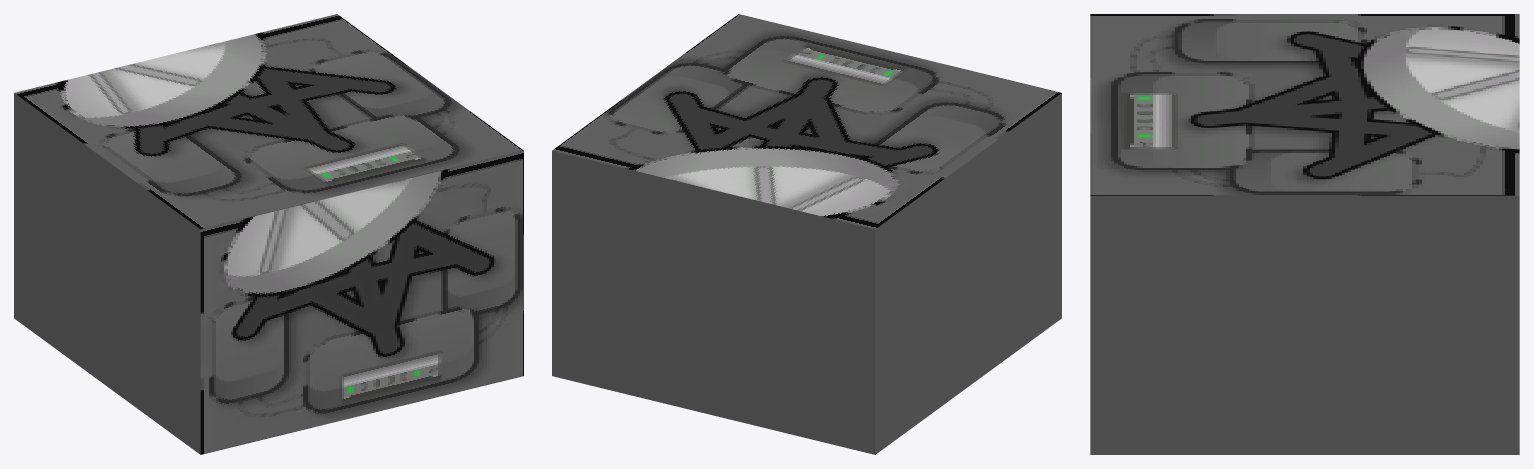
File: Building_SurveyScanner.glb
The picture shows the model from 3 angles, left to right: view 1: azimuth 30°, elevation 25°; view 2: azimuth 150°, elevation 25°; view 3: azimuth 270°, elevation 25°; orthographic projection. The views are drawn at different scales.
Parts seen in each view (by area): view 1: SurveyScanner; view 2: SurveyScanner; view 3: SurveyScanner.
Boxes of the visible parts, <box> form: SurveyScanner: <box>14,14,523,454</box>; SurveyScanner: <box>552,14,1061,454</box>; SurveyScanner: <box>1090,14,1519,454</box>.
Size of the model in its own units: 1.8 by 1.2 by 1.8.
1 material, 1 textured.
